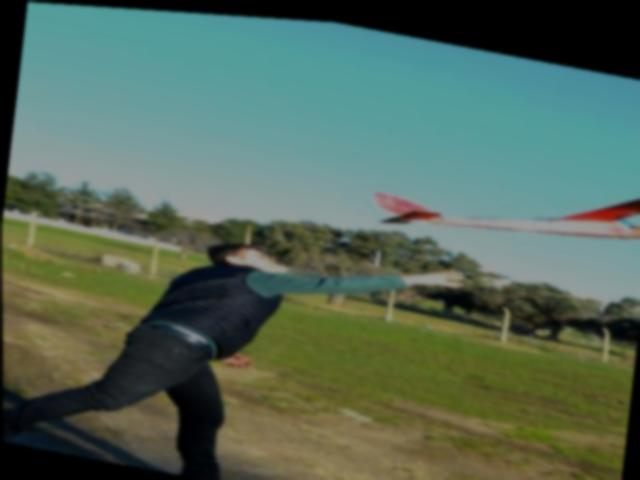iha: (364, 117, 640, 265)
